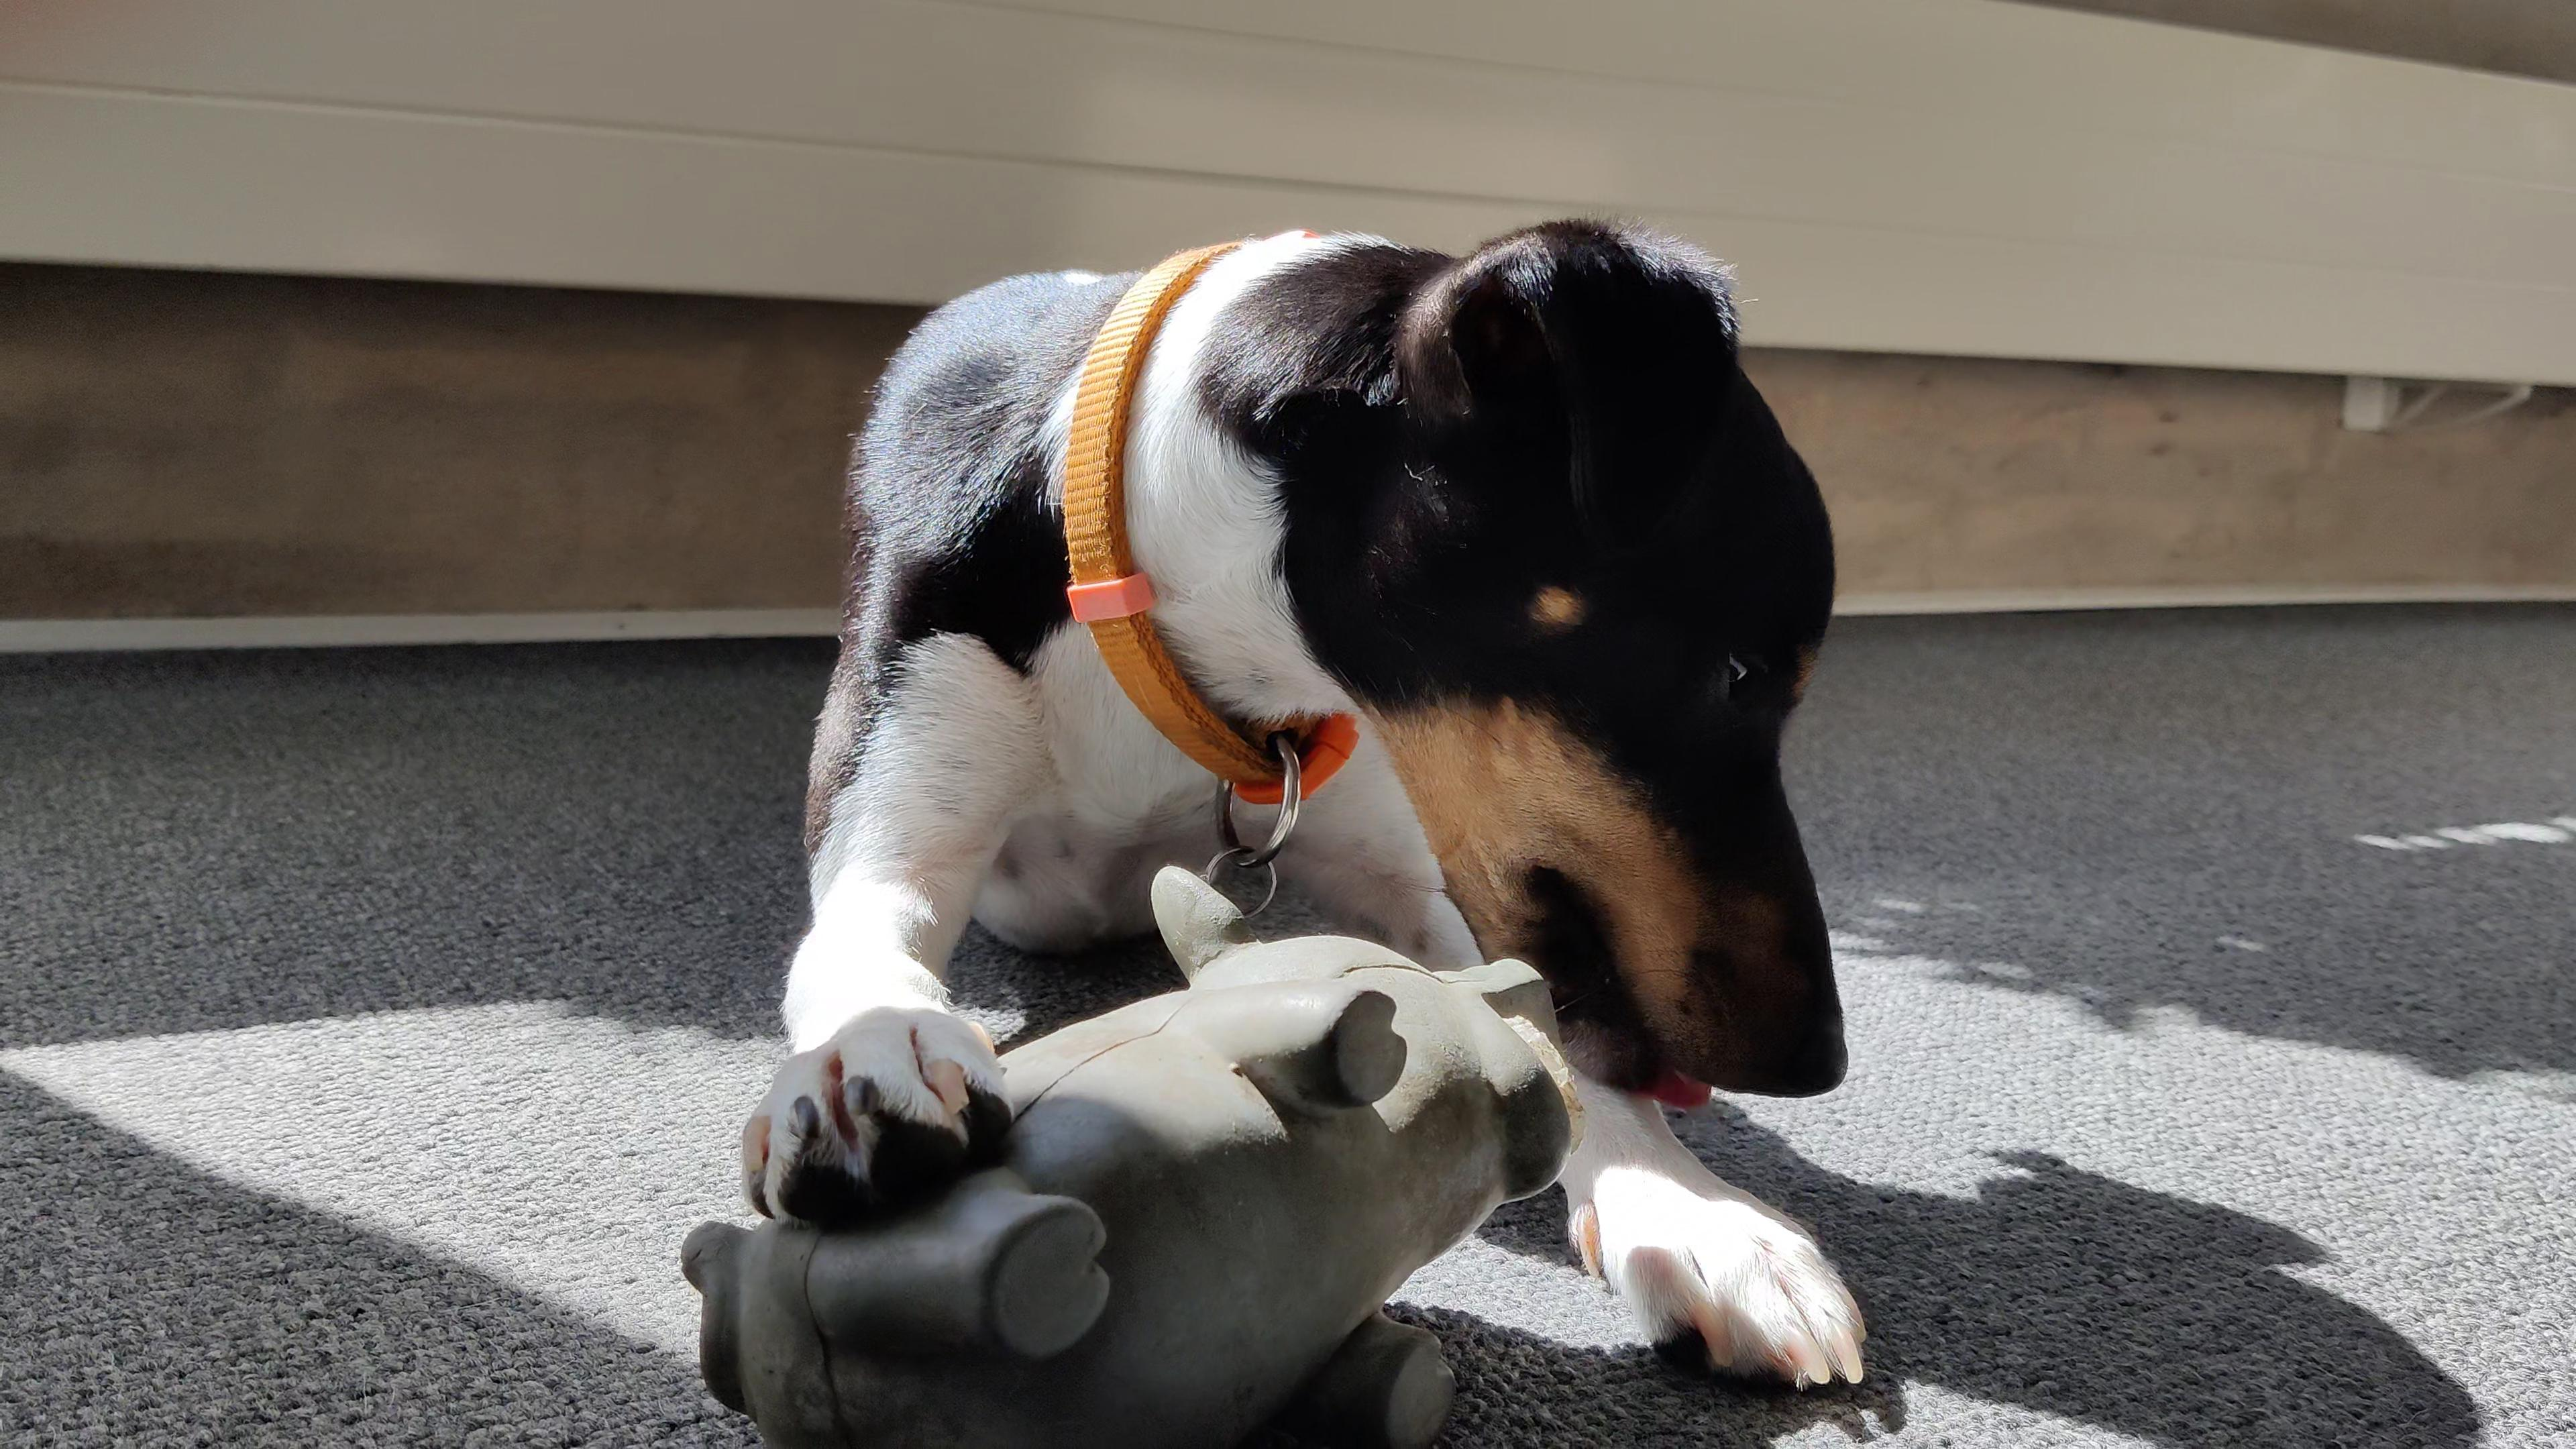Dog: (724, 196, 1900, 1401)
